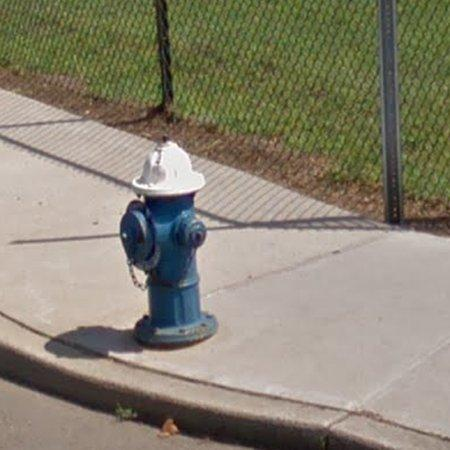a fire hydrant: (120, 140, 218, 347)
